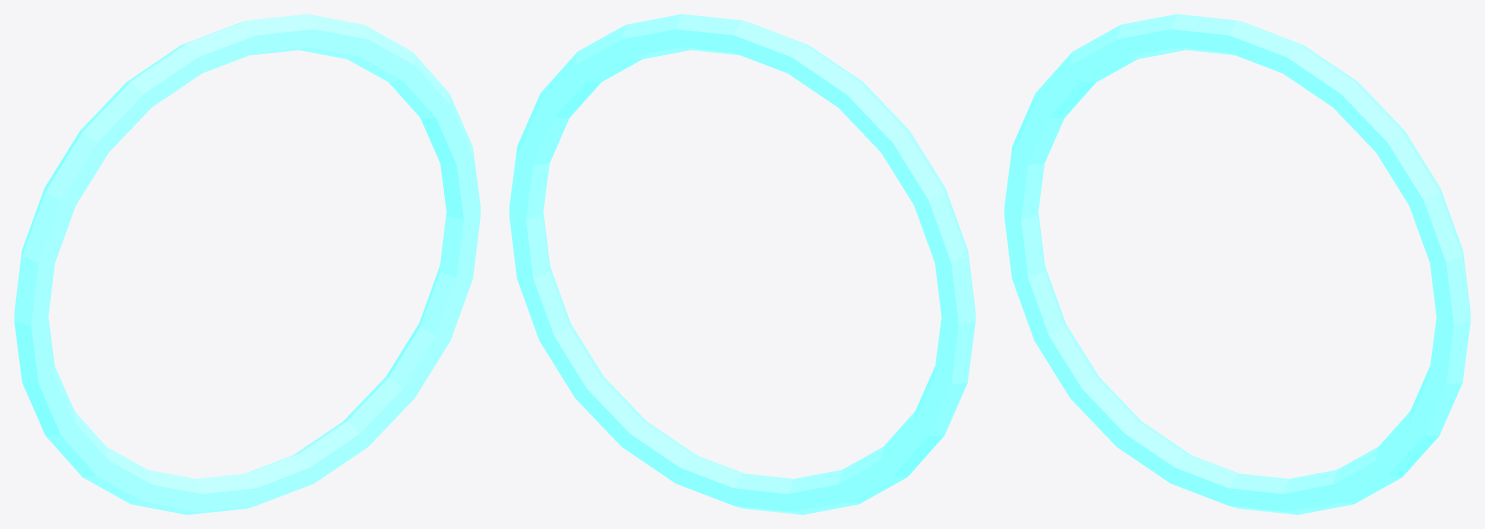
Rendered from boost_ring.glb.
The picture shows the model from 3 angles, left to right: view 1: azimuth 30°, elevation 25°; view 2: azimuth 150°, elevation 25°; view 3: azimuth 330°, elevation 25°; orthographic projection.
Parts seen in each view (by area): view 1: BoostRing; view 2: BoostRing; view 3: BoostRing.
Boxes of the visible parts, x1,y1,x2,y2 form: BoostRing: (14,14,480,514); BoostRing: (509,14,975,514); BoostRing: (1004,14,1470,514).
Size of the model in its own units: 9.7 by 9.7 by 0.6062.
